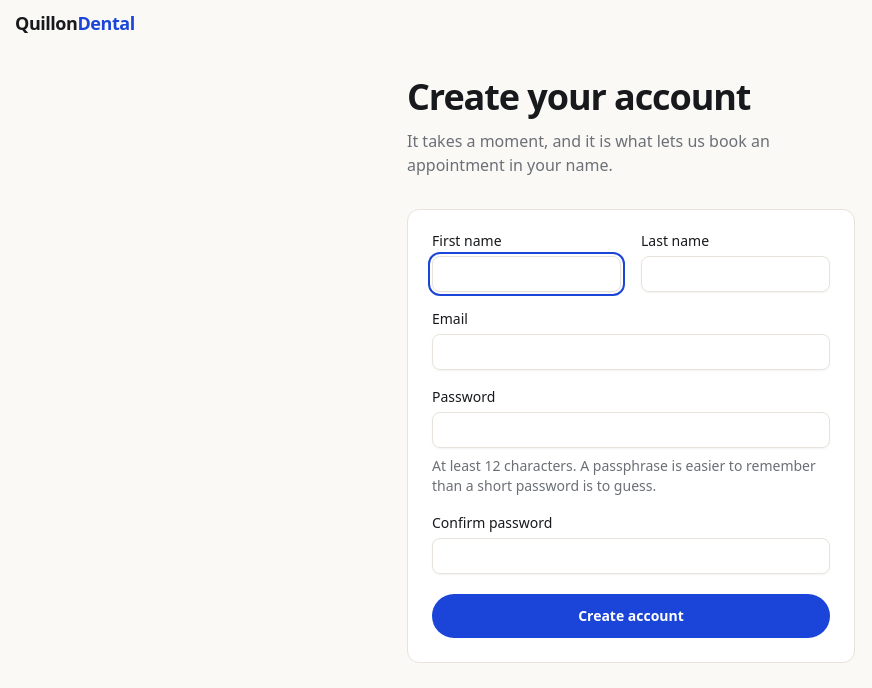
Test: SignUp › enforces the server password rule before submitting
This screenshot has width=872, height=688.
Type "Elena" into the field labelled "First name" at (526, 274), box [432, 256, 621, 292]
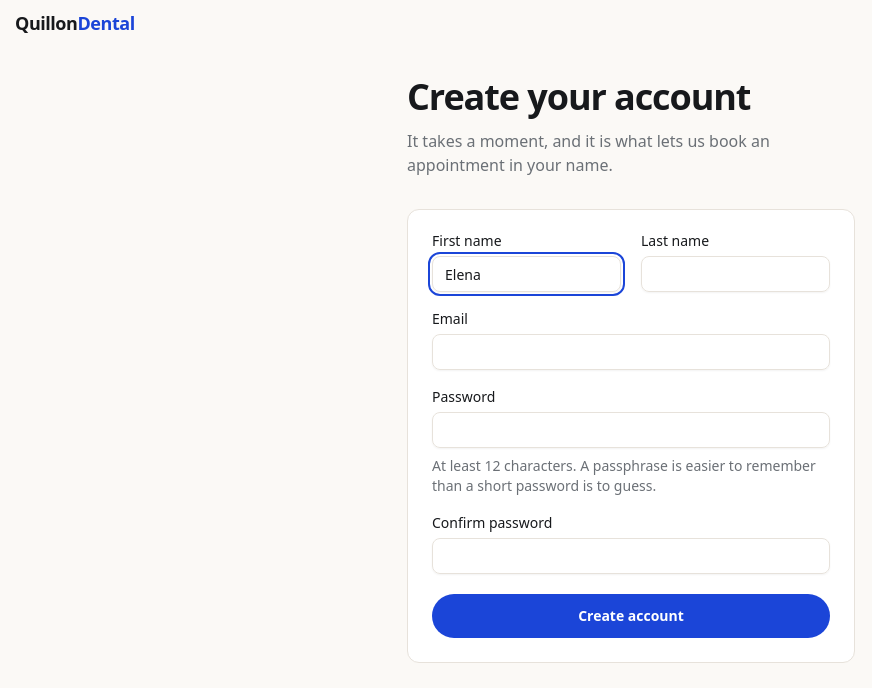
Type "Marsh" into the field labelled "Last name" at (736, 274), box [641, 256, 830, 292]
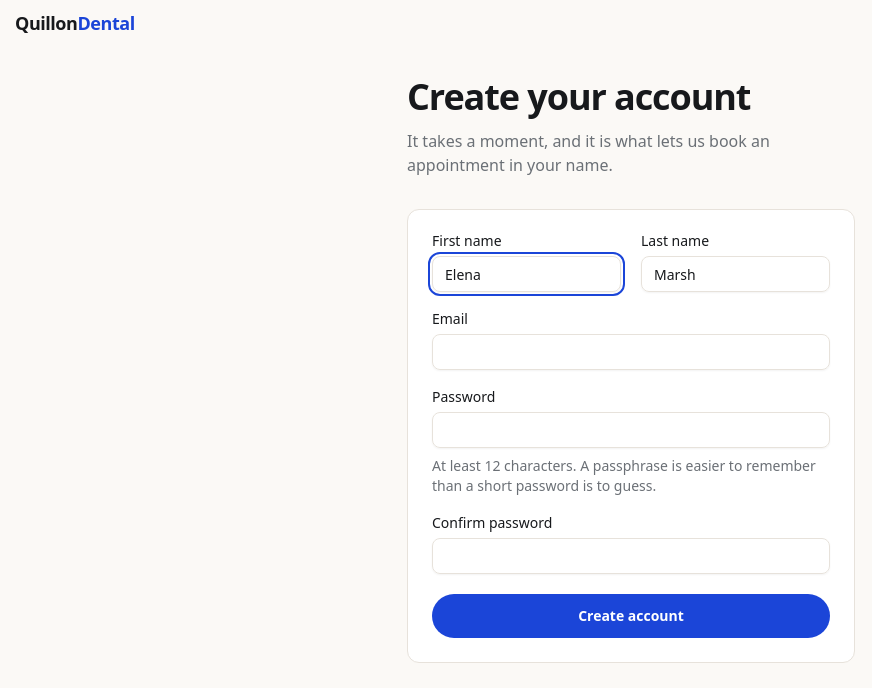
Type "elena.marsh@example.com" into the field labelled "Email" at (631, 352), box [432, 334, 830, 370]
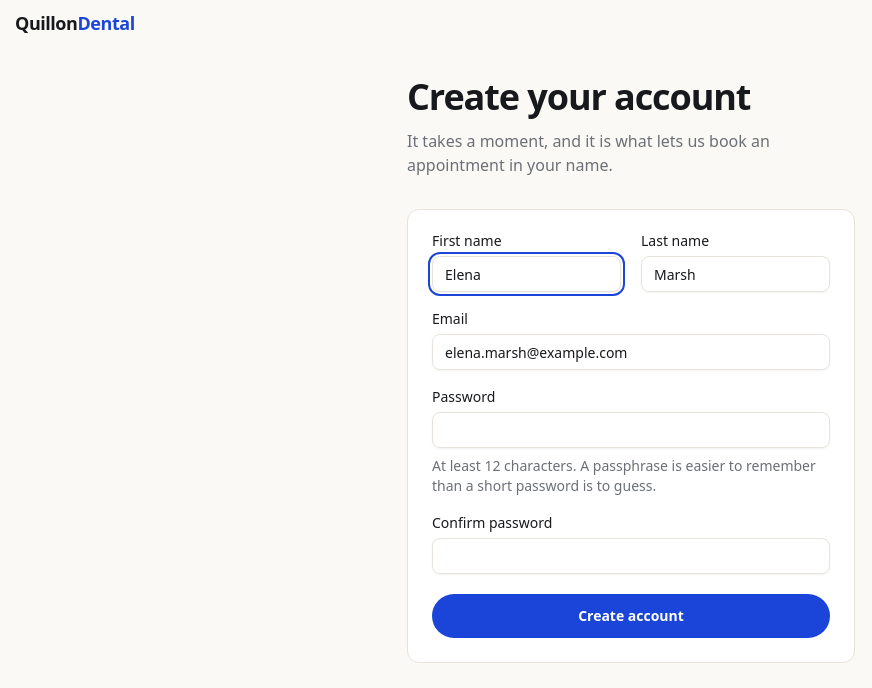
Type "short" into the password field labelled "Password" at (631, 430), box [432, 412, 830, 448]
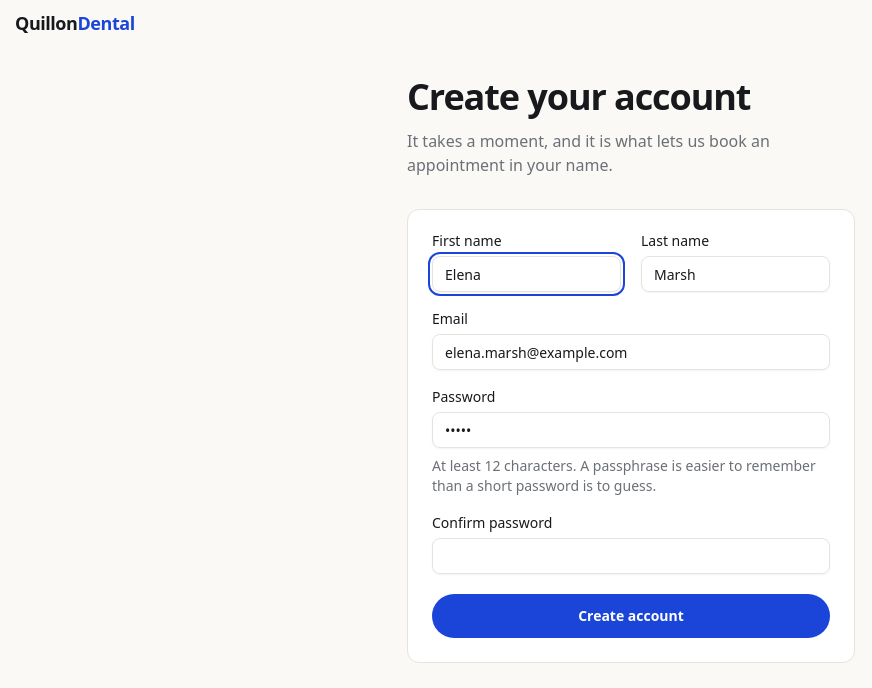
Type "short" into the password field labelled "Confirm password" at (631, 556), box [432, 538, 830, 574]
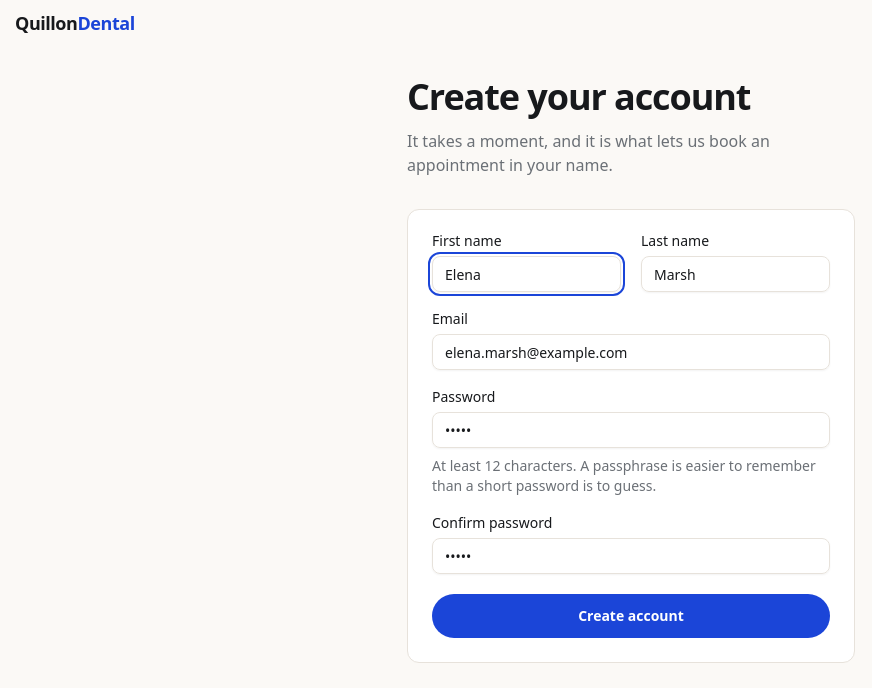
Click the button "Create account" at (631, 616), box [432, 594, 830, 638]
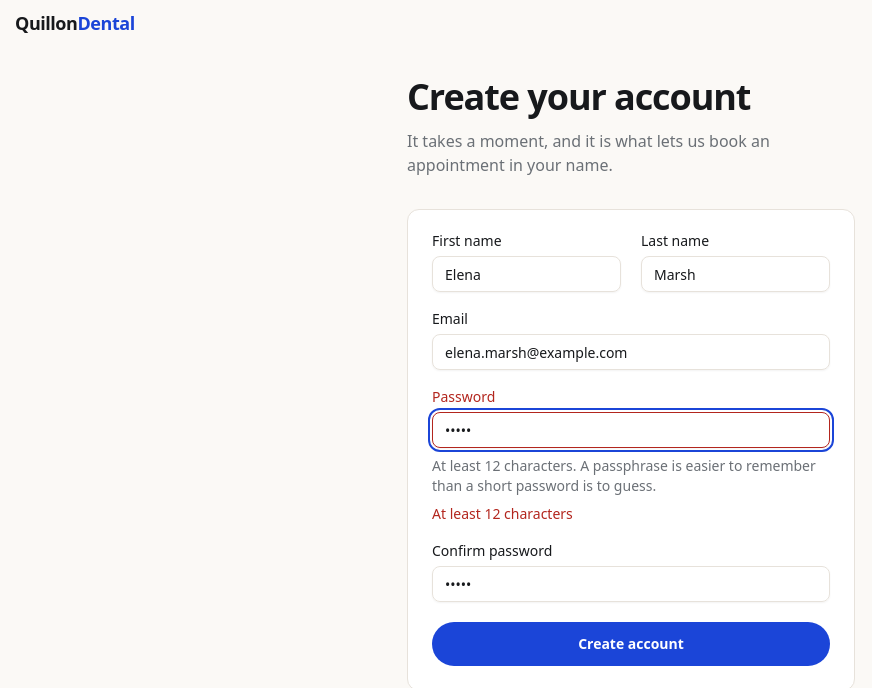
Expected: the text "At least 12 characters" is shown, [432, 504, 573, 523]
